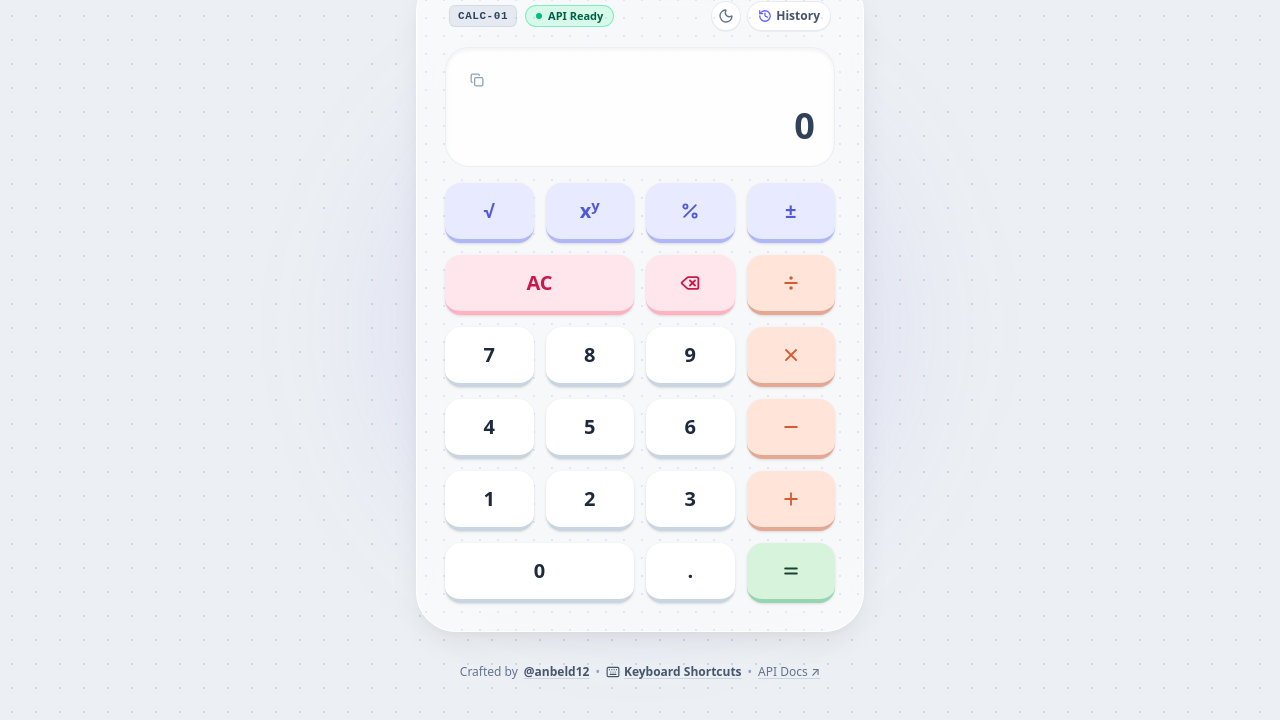
App Component › opens and closes keyboard shortcuts modal from footer button
(page scrolled)
Click the button with test id "btn-open-shortcuts".
click(674, 672)  # box [606,664,742,680]
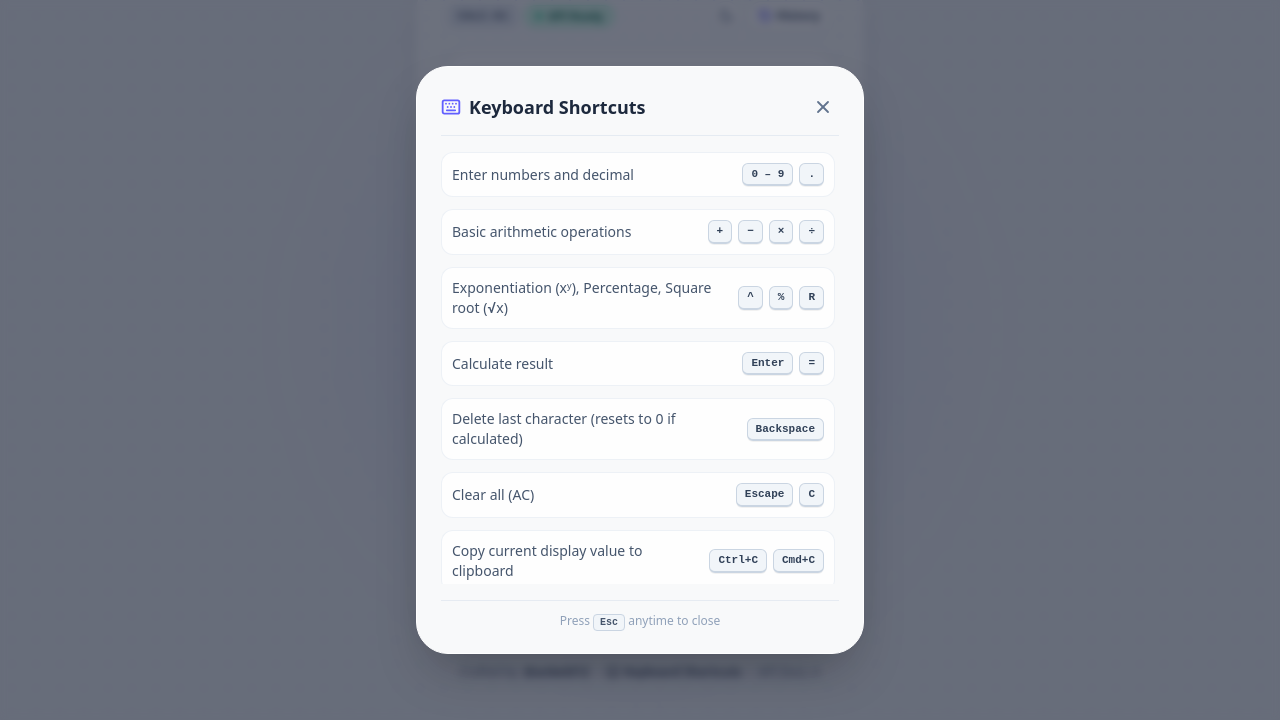
Expected: the dialog with test id "shortcuts-modal" is shown
Expected: the heading "Keyboard Shortcuts" is shown, [469,93,646,121]
Click the button with test id "btn-close-shortcuts".
click(823, 107)  # box [807,91,839,123]
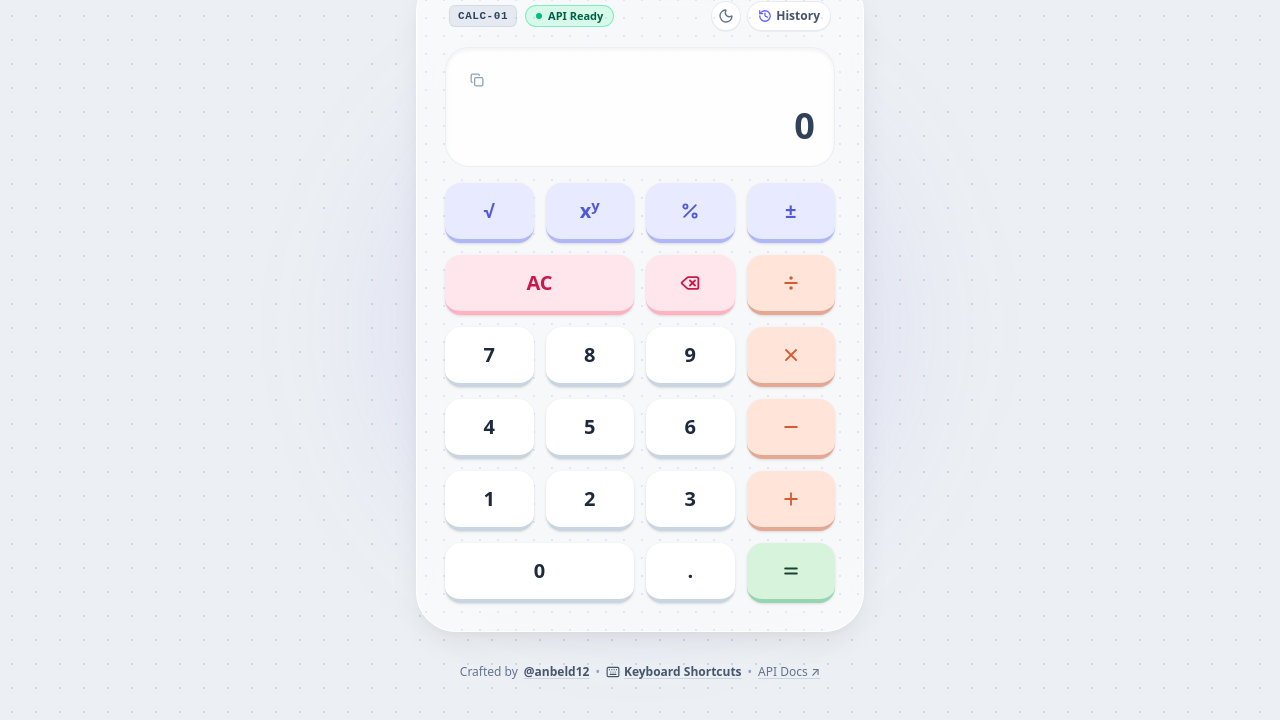
Expected: the dialog with test id "shortcuts-modal" is gone
